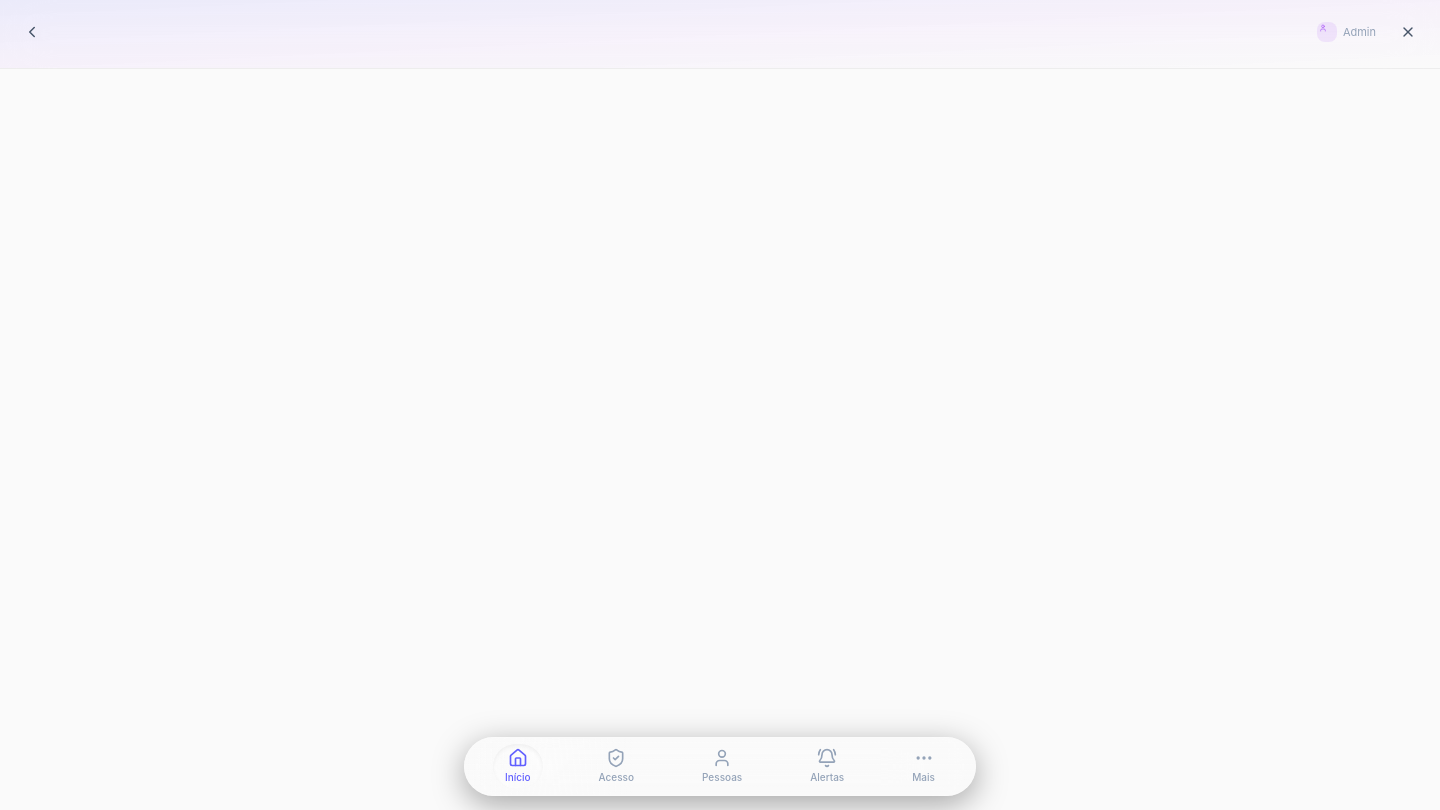
Test: AdminLayout › o menu Mais lista Configurações, Workspaces e Backups (perfil é o sheet global)
Click the button labelled "Mais".
click(924, 766)  # box [900,744,947,789]
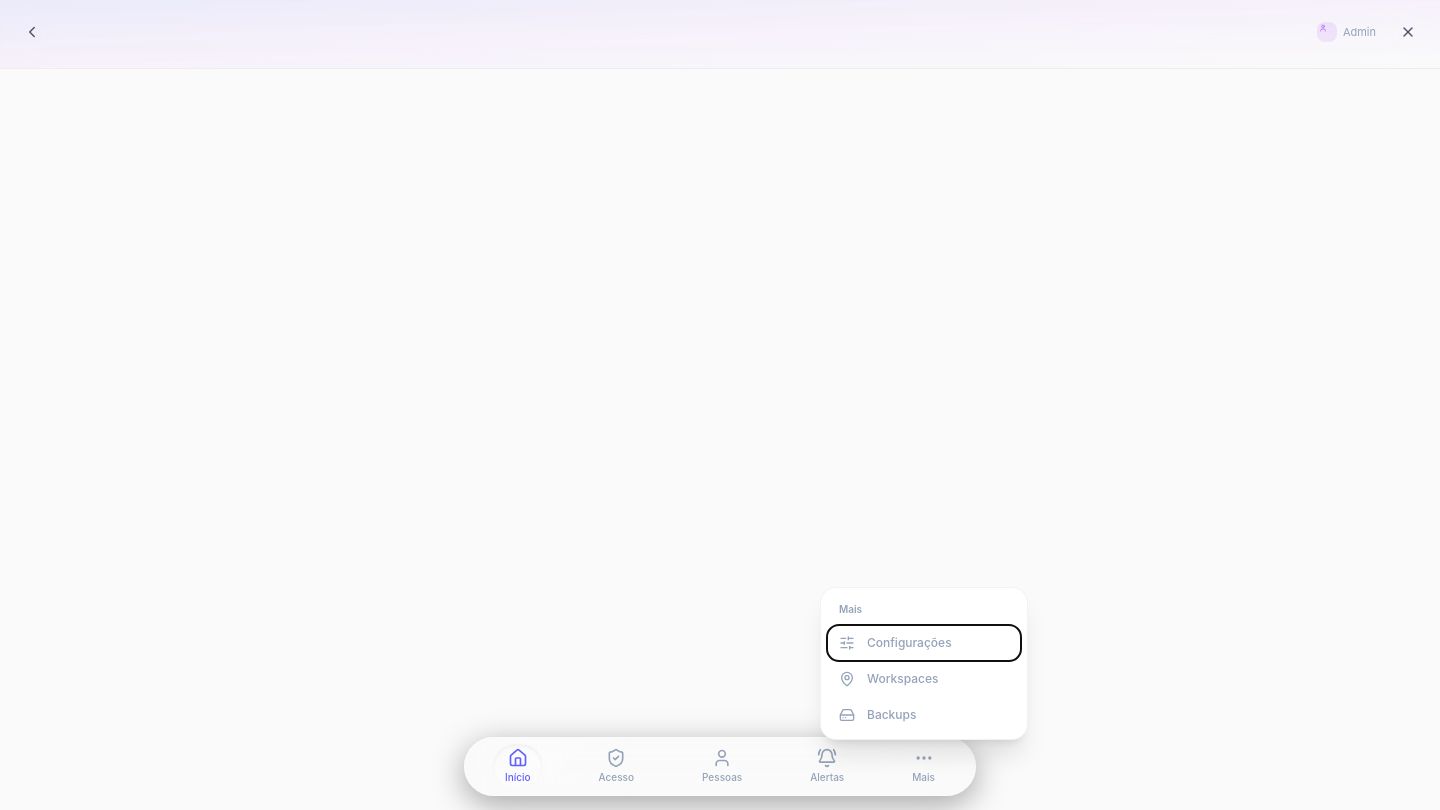
Result: the text "Configurações" is shown at [867,635,952,651]
Result: the text "Workspaces" is shown at [867,671,938,687]
Result: the text "Backups" is shown at [867,707,916,723]
